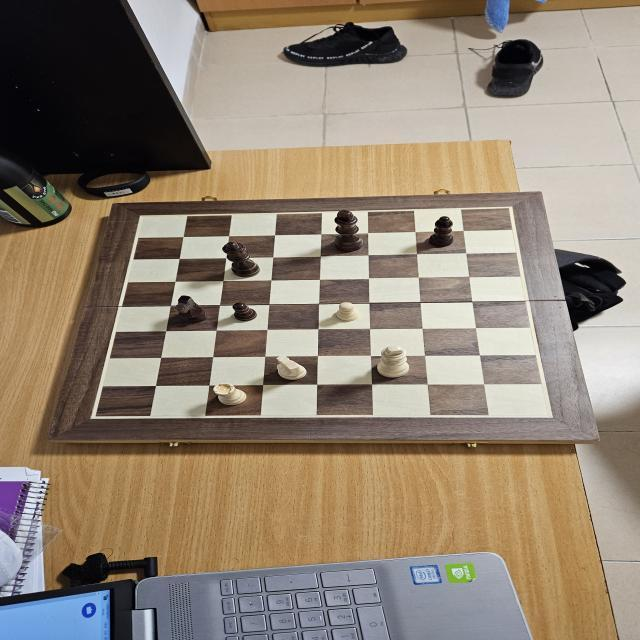chess-table-corners: (540, 408, 562, 421), (85, 411, 108, 422), (502, 203, 519, 211), (134, 212, 146, 220)
